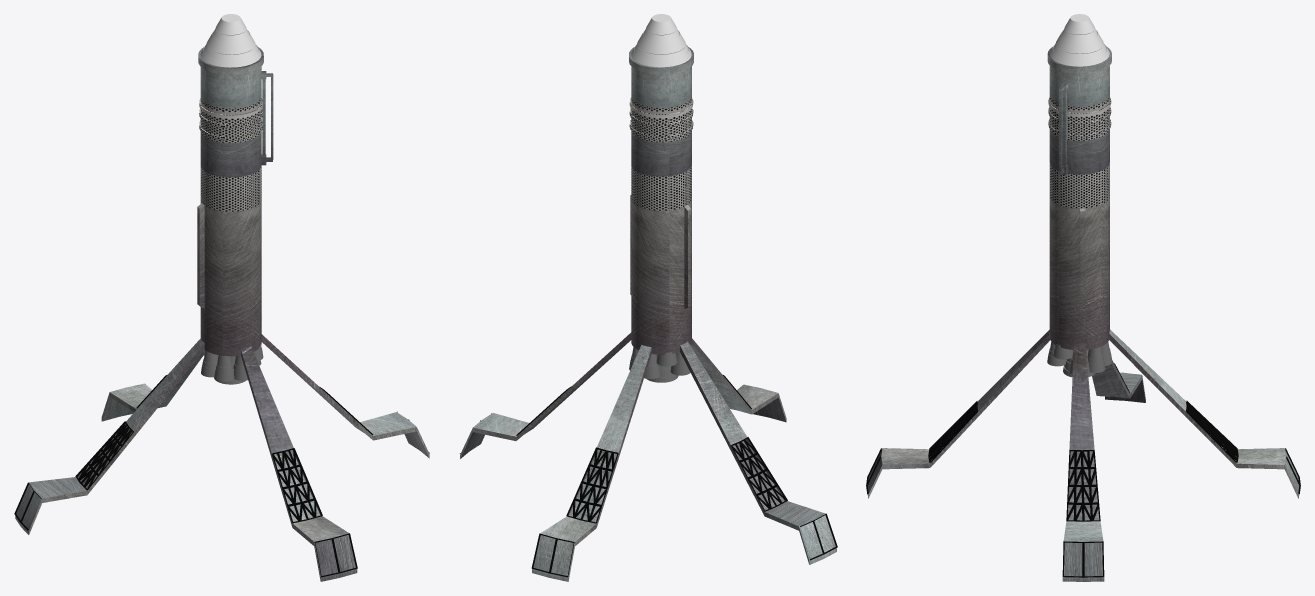
The model's file is rocket8.fbx.
The picture shows the model from 3 angles, left to right: view 1: azimuth 30°, elevation 25°; view 2: azimuth 150°, elevation 25°; view 3: azimuth 270°, elevation 25°; orthographic projection.
Visible parts, largest first — view 1: Circle.010, Circle.001; view 2: Circle.010, Circle.001; view 3: Circle.010, Circle.001.
Boxes of the visible parts, <box> form: Circle.010: <box>14,47,429,581</box>; Circle.001: <box>200,14,261,67</box>; Circle.010: <box>460,47,837,581</box>; Circle.001: <box>631,14,691,67</box>; Circle.010: <box>866,46,1300,581</box>; Circle.001: <box>1050,14,1109,66</box>.
Size of the model in its own units: 1445 by 1737 by 1449.
Materials: 6 (3 with a texture image).
